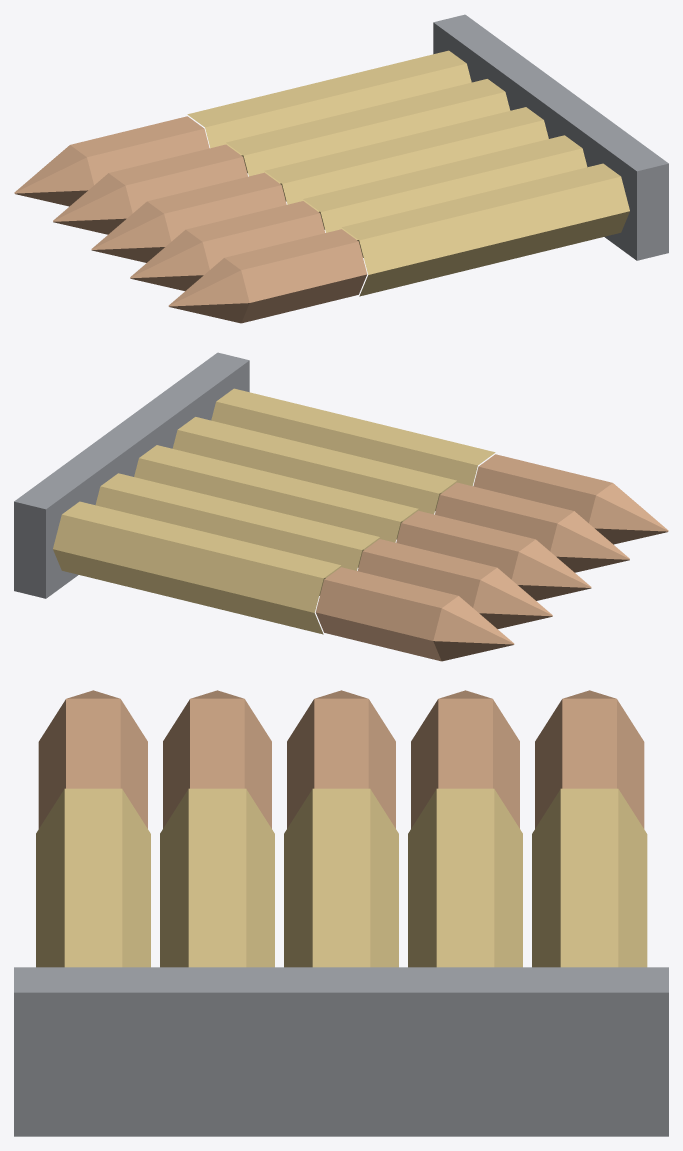
The model's file is stripper_clip.gltf.
The picture shows the model from 3 angles, top to bottom: view 1: azimuth 30°, elevation 25°; view 2: azimuth 150°, elevation 25°; view 3: azimuth 270°, elevation 25°; orthographic projection. The views are drawn at different scales.
Parts seen in each view (by area): view 1: stripper_clip; view 2: stripper_clip; view 3: stripper_clip.
Part boxes in pixels (box(x1,y1,x2,y2)): stripper_clip: box(14, 14, 668, 323); stripper_clip: box(14, 352, 668, 661); stripper_clip: box(14, 690, 668, 1136).
Bounding box in the file's own units: 0.089 × 0.016 × 0.066.
